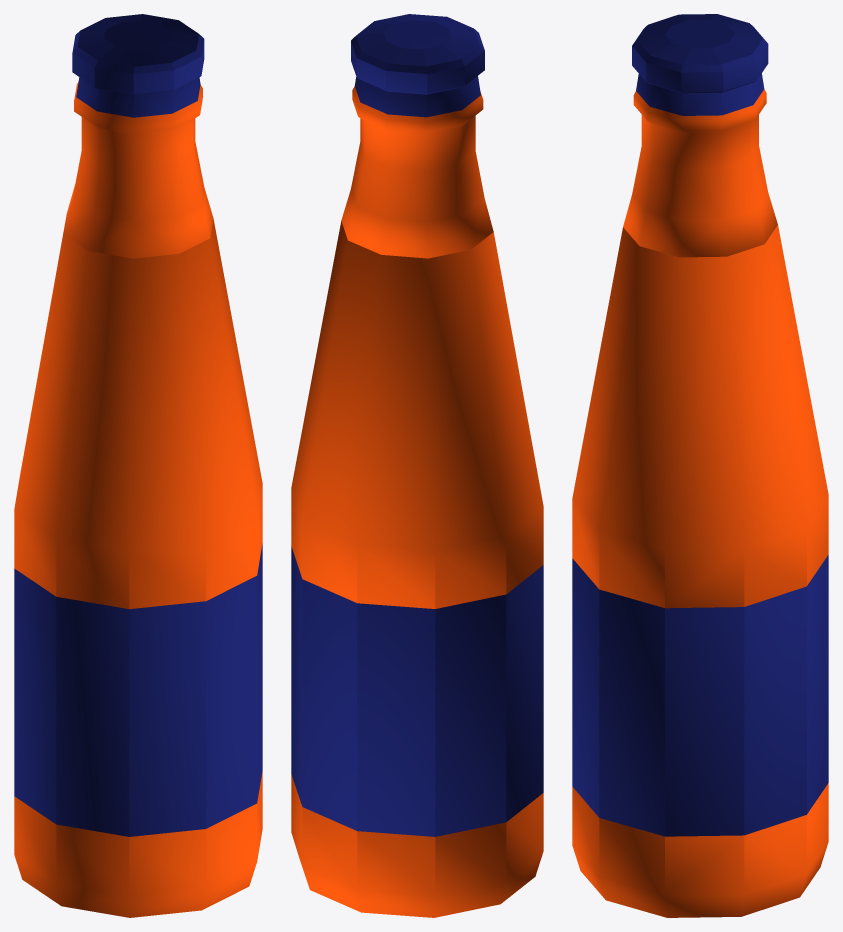
File: Orange Soda.fbx
3 renders of one model, left to right at view 1: azimuth 30°, elevation 25°; view 2: azimuth 150°, elevation 25°; view 3: azimuth 270°, elevation 25°, orthographic.
Visible parts, largest first — view 1: Node 0; view 2: Node 0; view 3: Node 0.
Boxes of the visible parts, box(x1,y1,x2,y2) form: Node 0: box(14, 14, 262, 917); Node 0: box(291, 14, 543, 917); Node 0: box(572, 14, 828, 917).
Size of the model in its own units: 0.0495 by 0.1777 by 0.0476.
